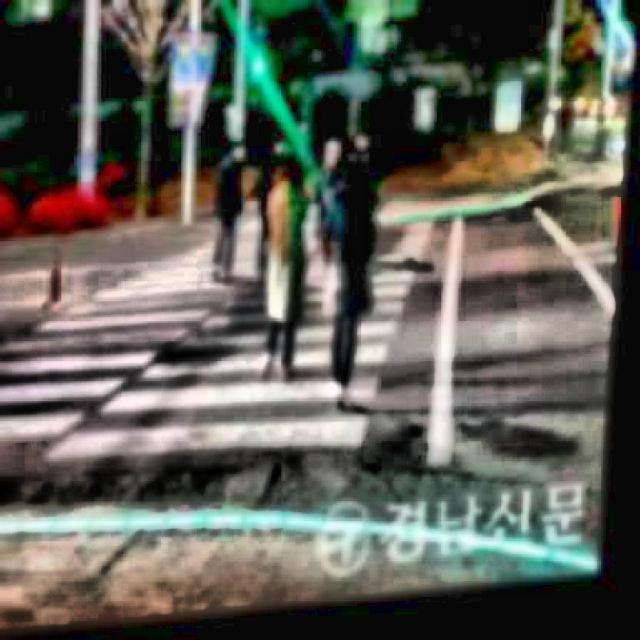semaforo pedestre: (232, 22, 283, 121)
